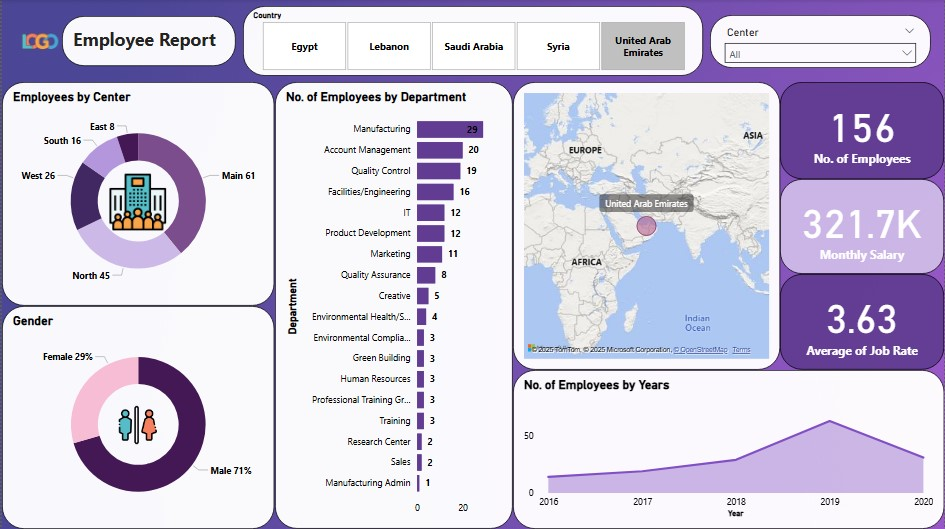

The page's visual inventory and layout, read from the dashboard file:
{"tool":"powerbi","page":{"name":"Employees Report DashBoard","canvas":[1280,720],"ordinal":0},"visuals":[{"type":"clusteredBarChart","title":"No. of Employees by Department","fields":{"Category":["Employees.Department"],"Y":["CountNonNull(Employees.No)"]},"box":[370.2,112.9,323.4,607],"z":0},{"type":"donutChart","title":"Employees by Center","fields":{"Category":["Employees.Center"],"Y":["CountNonNull(Employees.No)"]},"box":[0,112.9,370.2,304.2],"z":1000},{"type":"donutChart","title":"Gender","fields":{"Category":["Employees.Gender"],"Y":["CountNonNull(Employees.Gender)"]},"box":[0,417,370.2,302.8],"z":2000},{"type":"map","fields":{"Category":["Employees.Country"]},"box":[694.2,112.8,362.7,391.2],"z":3000},{"type":"areaChart","title":"No. of Employees by Years","fields":{"Category":["Employees.Start Date.Variation.Date Hierarchy.Year","Employees.Start Date.Variation.Date Hierarchy.Quarter","Employees.Start Date.Variation.Date Hierarchy.Month","Employees.Start Date.Variation.Date Hierarchy.Day"],"Y":["CountNonNull(Employees.No)"]},"box":[694.2,504,585.5,216],"z":4000},{"type":"card","fields":{"Values":["CountNonNull(Employees.No)"]},"box":[1056.9,112.8,222.8,131.8],"z":5000},{"type":"card","fields":{"Values":["Sum(Employees.Monthly Salary)"]},"box":[1056.9,244.5,222.8,129.1],"z":6000},{"type":"card","fields":{"Values":["Avg(Employees.Job Rate)"]},"box":[1056.9,373.6,222.8,130.4],"z":7000},{"type":"slicer","fields":{"Values":["Employees.Country"]},"box":[327.6,9.6,624.9,95],"z":8000},{"type":"slicer","fields":{"Values":["Employees.Center"]},"box":[962.1,22,300,71.6],"z":9000},{"type":"textbox","box":[81.5,23.1,236.4,67.9],"z":10000},{"type":"image","box":[12.4,39.9,78.5,35.8],"z":11000},{"type":"image","box":[153.5,544.8,62.5,67.9],"z":12000},{"type":"image","box":[125,232.3,118.2,86.9],"z":13000}]}

Visuals, with their boxes in screenshot pixels (x1, y1, x2, y2), scaled from the page's 1280x720 canvas onto the 945x529 screenshot:
"No. of Employees by Department" clusteredBarChart: {"x1": 273, "y1": 83, "x2": 512, "y2": 528}
"Employees by Center" donutChart: {"x1": 0, "y1": 83, "x2": 273, "y2": 306}
"Gender" donutChart: {"x1": 0, "y1": 306, "x2": 273, "y2": 528}
map - Employees.Country: {"x1": 513, "y1": 83, "x2": 780, "y2": 370}
"No. of Employees by Years" areaChart: {"x1": 513, "y1": 370, "x2": 944, "y2": 528}
card - CountNonNull(Employees.No): {"x1": 780, "y1": 83, "x2": 944, "y2": 180}
card - Sum(Employees.Monthly Salary): {"x1": 780, "y1": 180, "x2": 944, "y2": 274}
card - Avg(Employees.Job Rate): {"x1": 780, "y1": 274, "x2": 944, "y2": 370}
slicer - Employees.Country: {"x1": 242, "y1": 7, "x2": 703, "y2": 77}
slicer - Employees.Center: {"x1": 710, "y1": 16, "x2": 932, "y2": 69}
textbox: {"x1": 60, "y1": 17, "x2": 235, "y2": 67}
image: {"x1": 9, "y1": 29, "x2": 67, "y2": 56}
image: {"x1": 113, "y1": 400, "x2": 159, "y2": 450}
image: {"x1": 92, "y1": 171, "x2": 180, "y2": 235}
